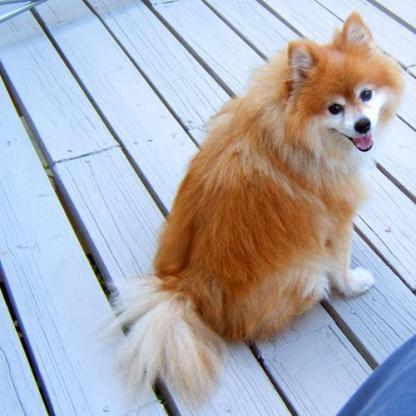Pomeranian: (93, 9, 404, 403)
